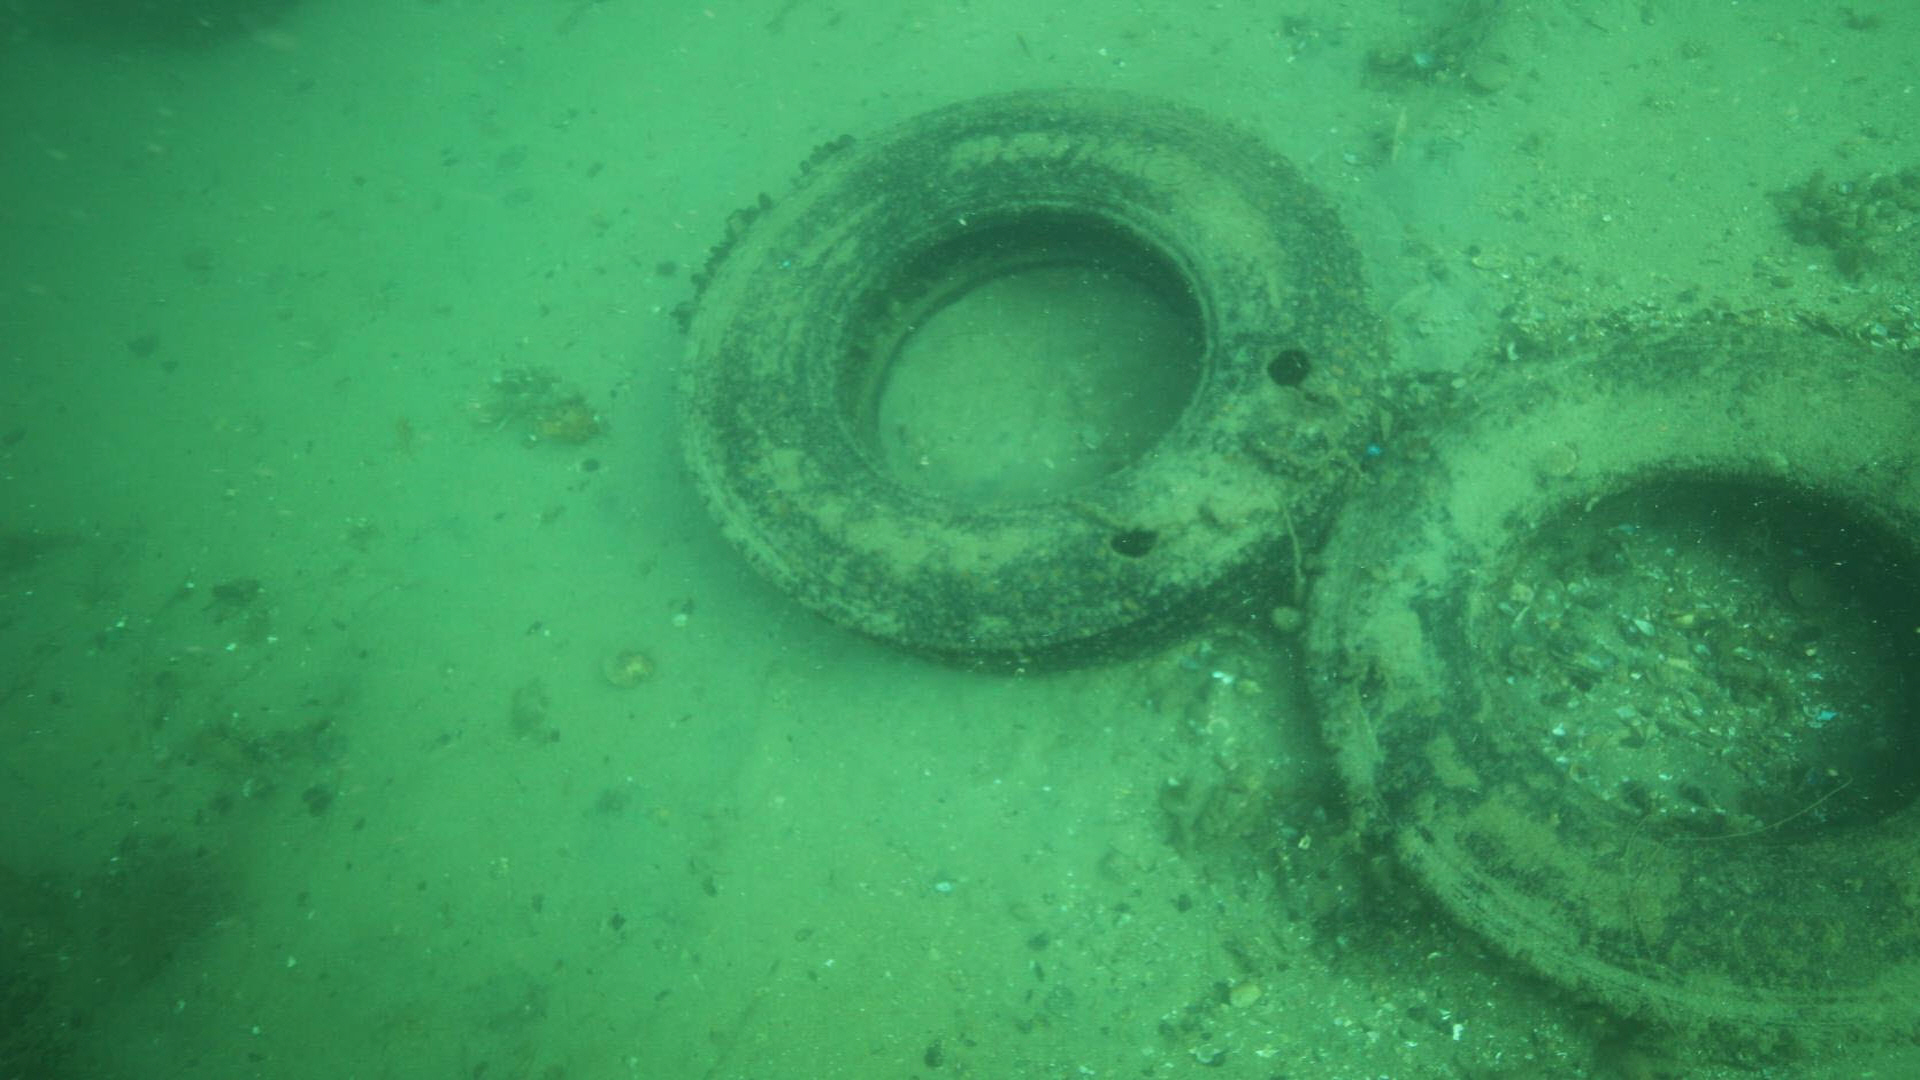tire: (1302, 319, 1920, 1029), (675, 83, 1385, 680)
